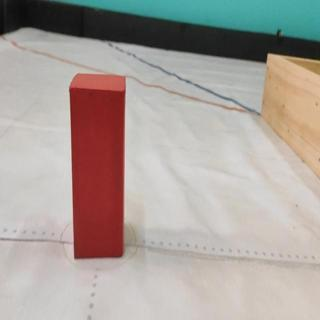redbox: (68, 71, 126, 259)
